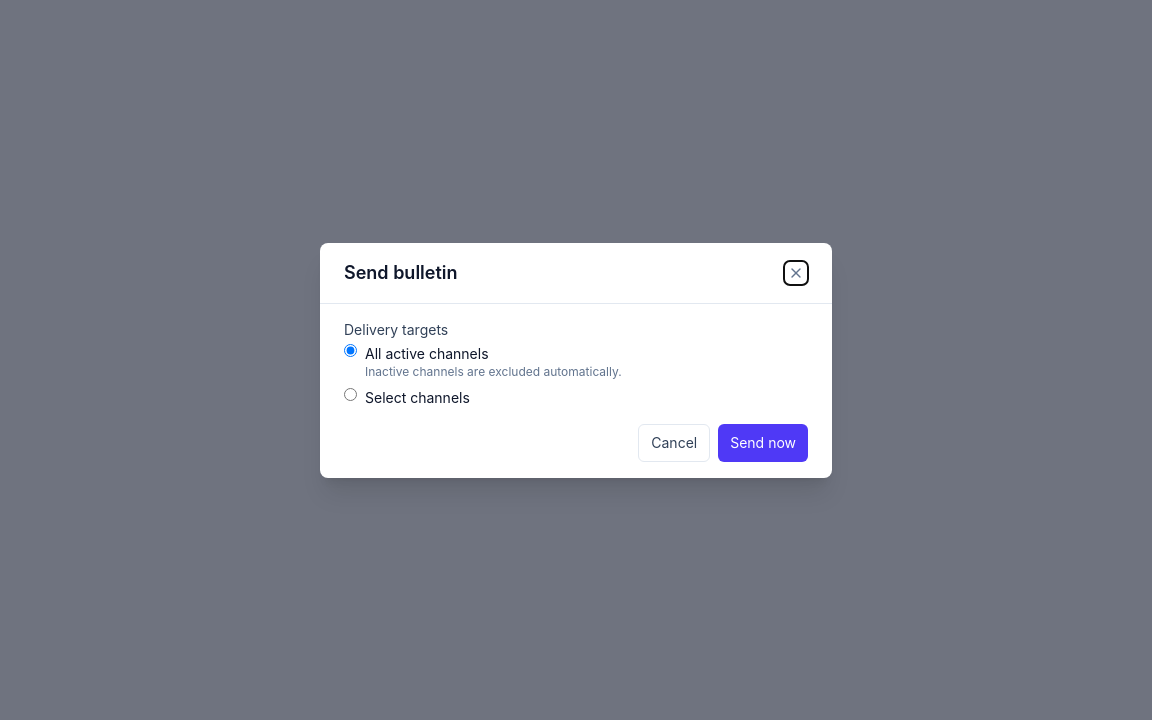
FE-SND-01: send dialog › disables inactive channels with a reason and blocks sending with none selected
Click the radio button labelled "Select channels": [350, 394] box [344,388,357,400]
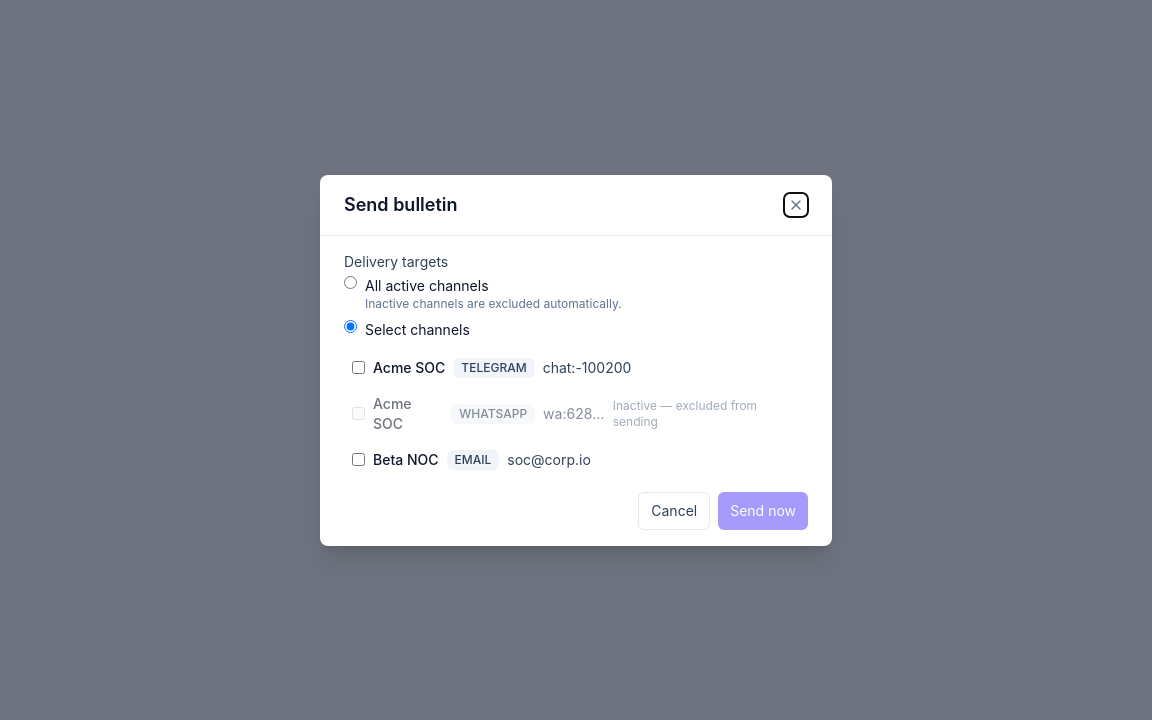
Check: the checkbox labelled "Acme SOC WHATSAPP wa:62812 Inactive — excluded from sending" is disabled, box [352,407,365,420]
Check: the text "Inactive — excluded from sending" is shown, box [613,398,757,428]
Check: the button "Send now" is disabled, box [718,492,808,530]
